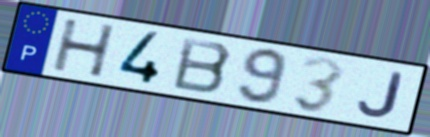3: (291, 55, 351, 114)
4: (115, 28, 164, 88)
9: (235, 46, 290, 106)
B: (169, 35, 235, 96)
H: (50, 17, 118, 79)
J: (355, 70, 406, 120)
